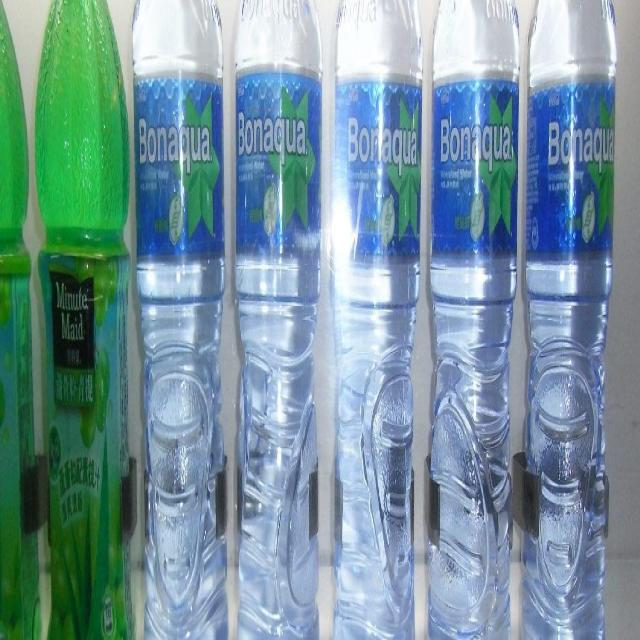plastic_bottle: (134, 1, 232, 640), (37, 1, 134, 640), (425, 2, 522, 640), (328, 3, 423, 640), (232, 1, 326, 640), (524, 3, 615, 640), (1, 1, 36, 640)
